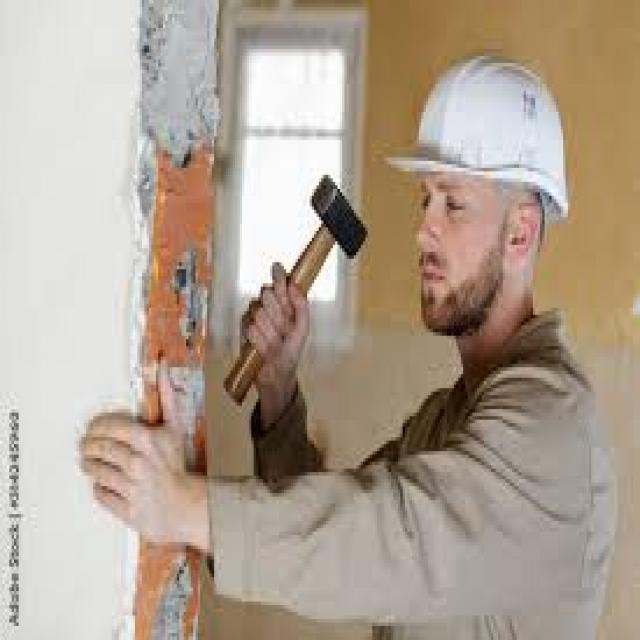hammer: (218, 168, 374, 420)
